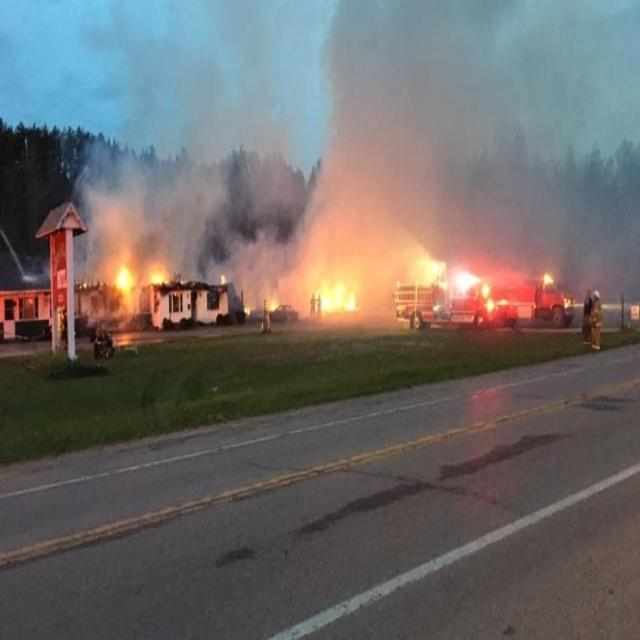Fire: (311, 266, 361, 318), (112, 259, 144, 314), (144, 260, 171, 293)
Smoke: (202, 0, 632, 309), (63, 0, 314, 322)
